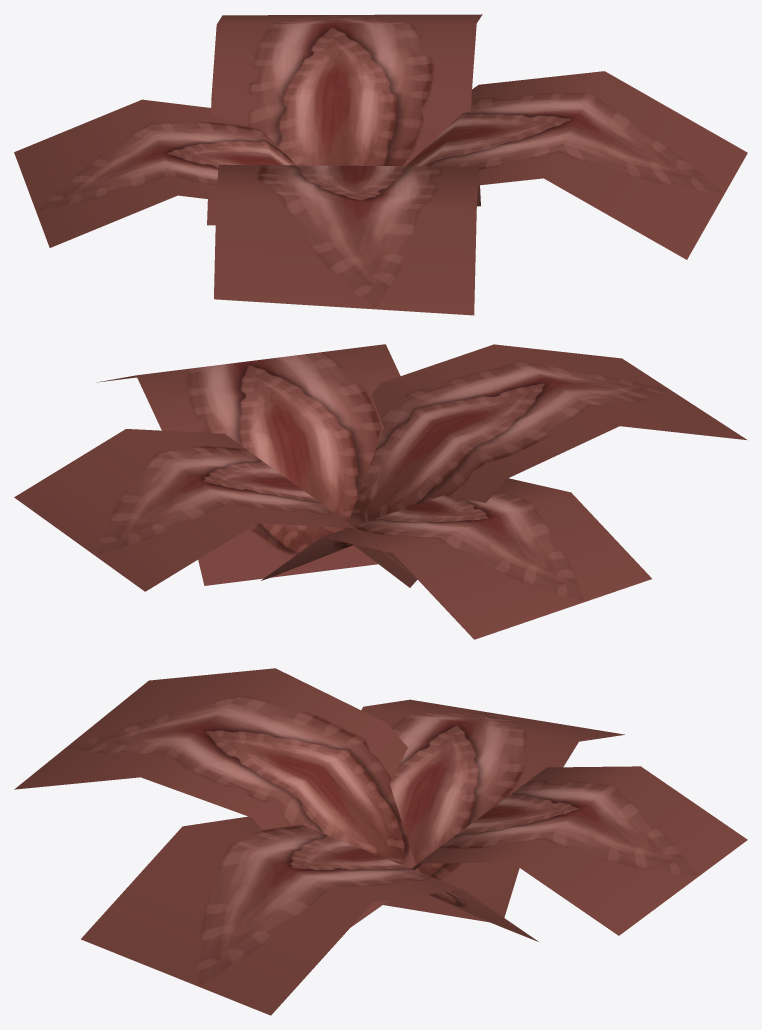
The model's file is grass_pant_03.fbx.
3 renders of one model, top to bottom at view 1: azimuth 30°, elevation 25°; view 2: azimuth 150°, elevation 25°; view 3: azimuth 270°, elevation 25°, orthographic.
Visible parts, largest first — view 1: grass_pant_03; view 2: grass_pant_03; view 3: grass_pant_03.
Boxes of the visible parts, bbox=[...] form: grass_pant_03: bbox=[14, 14, 747, 315]; grass_pant_03: bbox=[14, 344, 747, 639]; grass_pant_03: bbox=[14, 668, 747, 1015].
Size of the model in its own units: 1.31 by 0.2652 by 1.31.
